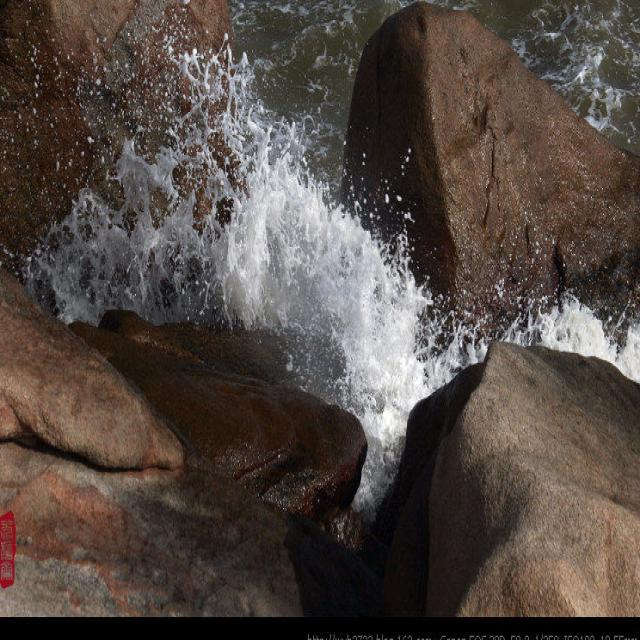reef: (101, 304, 640, 575), (320, 0, 640, 321)
